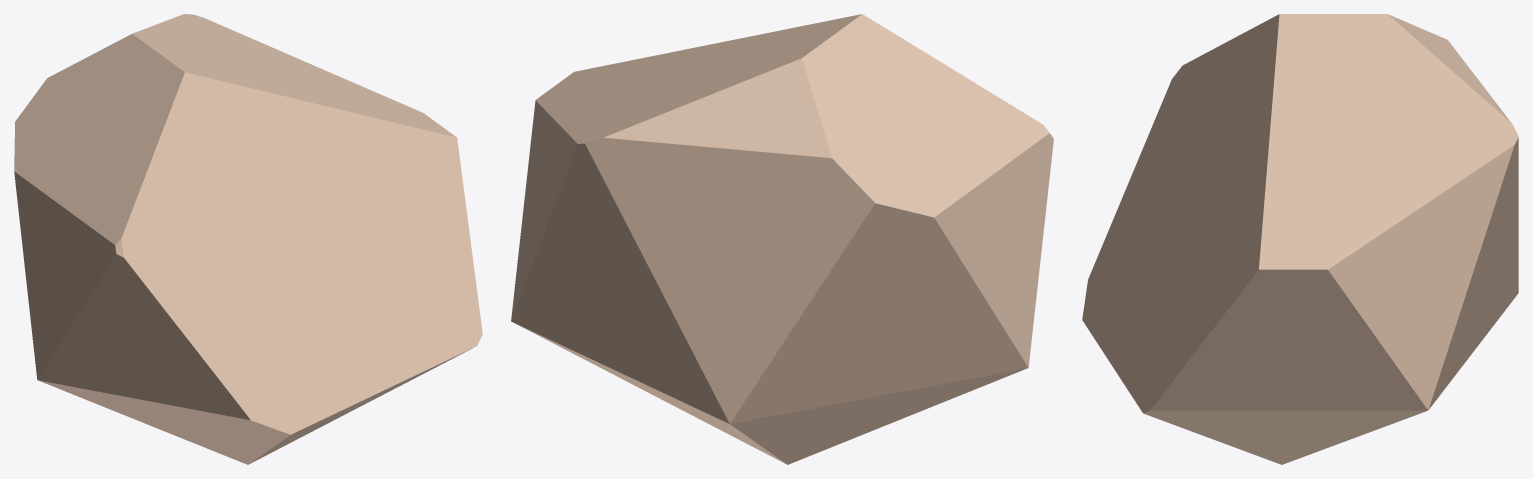
The model's file is rock_02.fbx.
3 views of the same model, side by side, from view 1: azimuth 30°, elevation 25°; view 2: azimuth 150°, elevation 25°; view 3: azimuth 270°, elevation 25° (orthographic). The views are drawn at different scales.
Visible parts, largest first — view 1: rock_02; view 2: rock_02; view 3: rock_02.
Part boxes in pixels (x1=…): rock_02: x1=14, y1=14, x2=482, y2=464; rock_02: x1=511, y1=14, x2=1053, y2=464; rock_02: x1=1082, y1=14, x2=1518, y2=464.
Size of the model in its own units: 57.67 by 55.17 by 52.1.
1 material, 1 textured.
